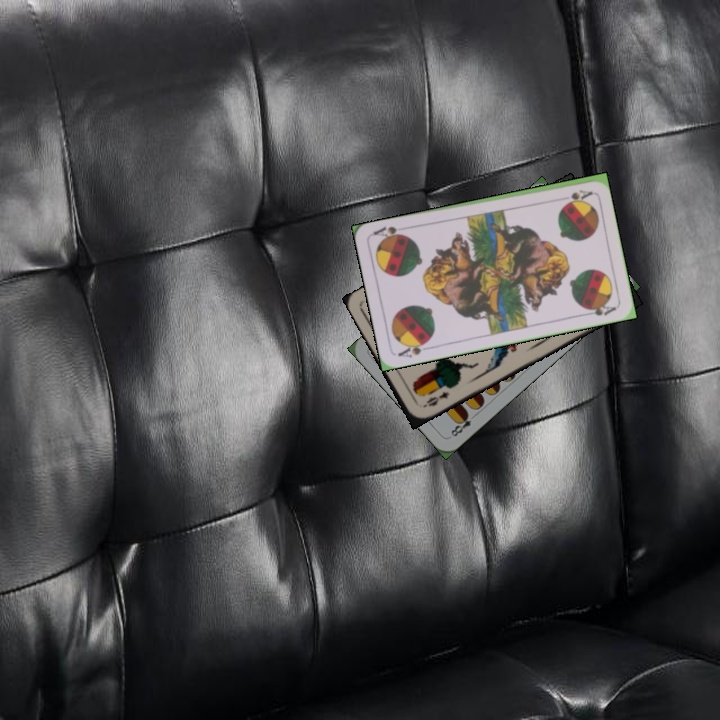E8: (447, 409, 480, 439)
EO: (419, 387, 452, 410)
SA: (393, 336, 434, 360), (566, 186, 594, 203)
